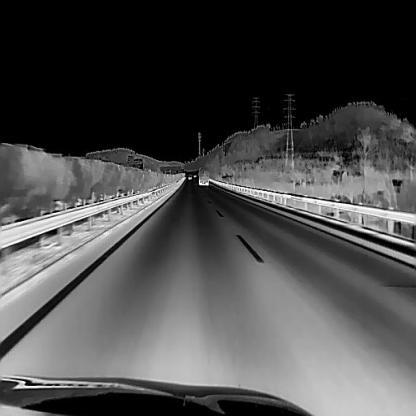car: (197, 167, 209, 184)
